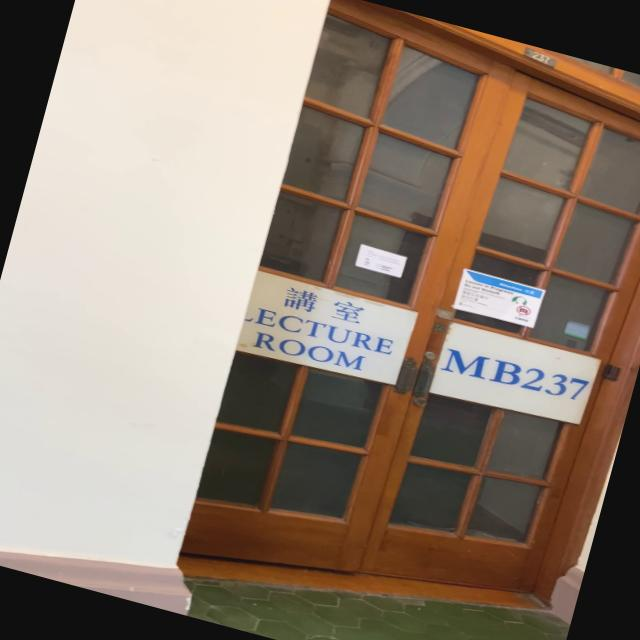room237: (516, 44, 562, 72)
room237Window: (438, 339, 590, 408)
